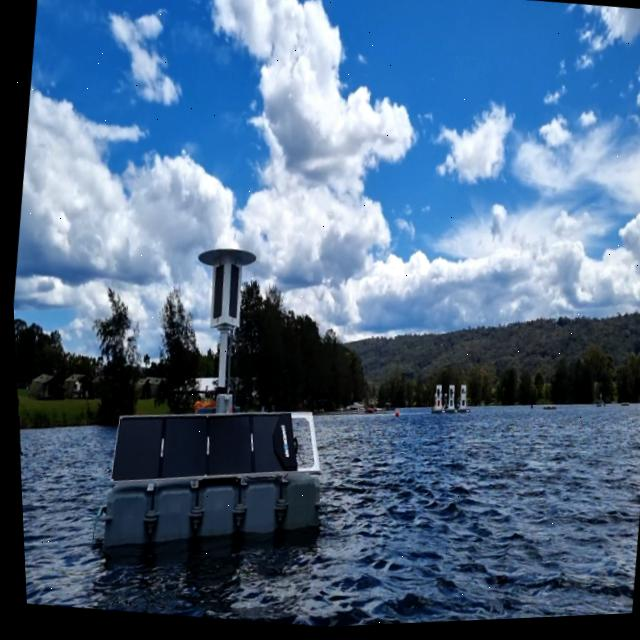led: (218, 263, 242, 326), (205, 267, 225, 323)
